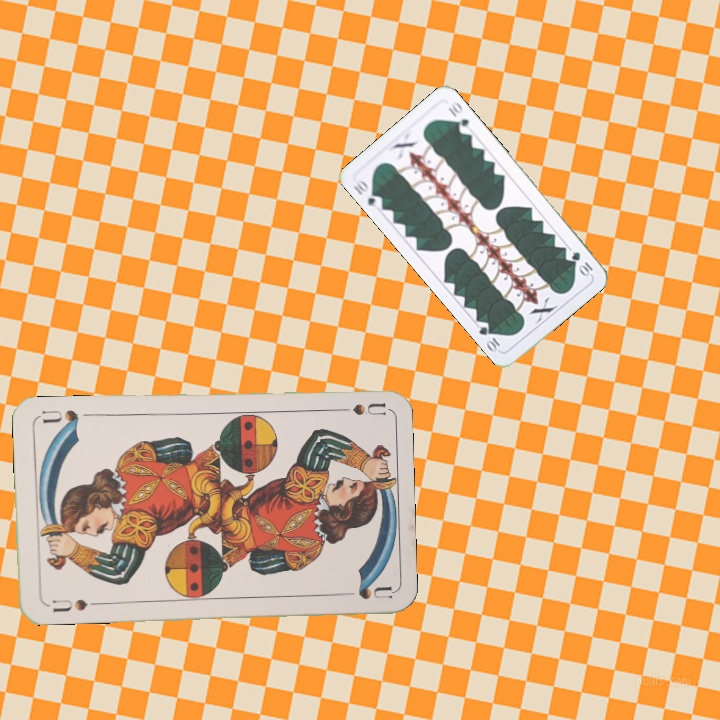G10: (349, 176, 385, 212), (567, 247, 595, 279)
SU: (327, 399, 386, 418), (48, 595, 101, 615)
